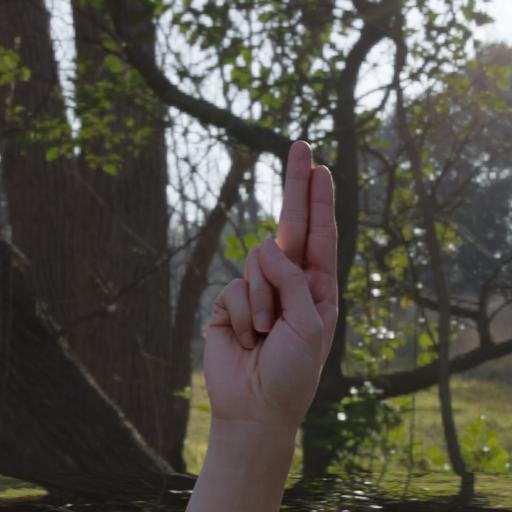U: (174, 122, 391, 448)
